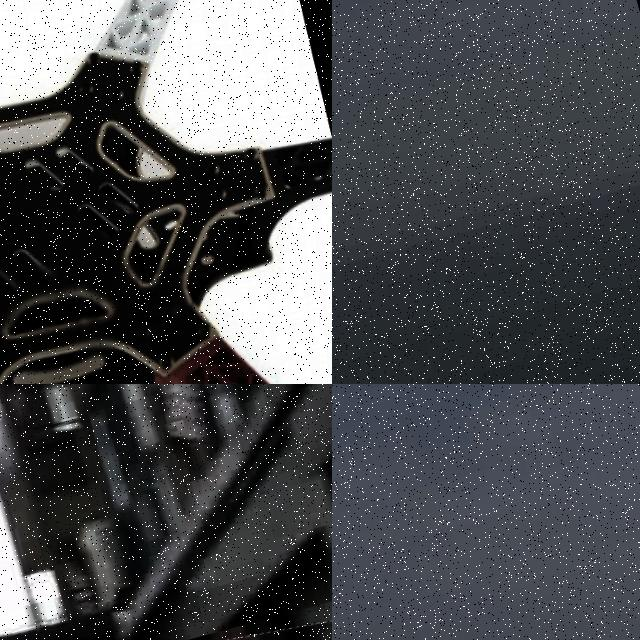drone: (0, 0, 332, 384), (0, 587, 332, 640)
